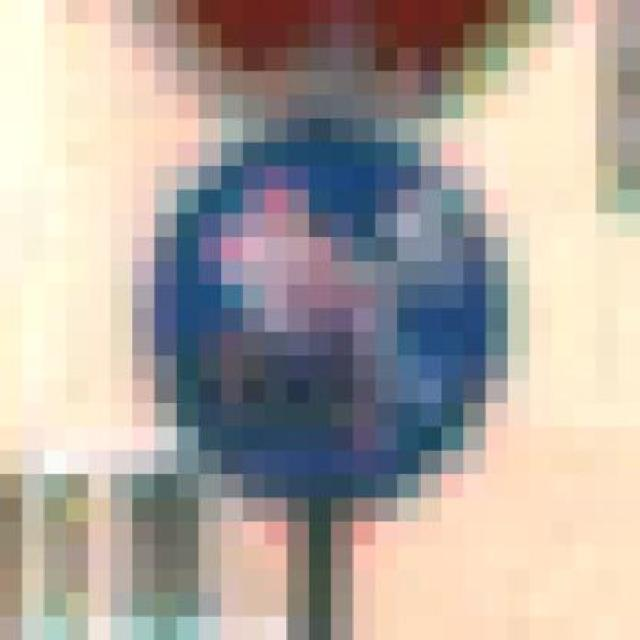Turn left ahead: (132, 118, 552, 545)
